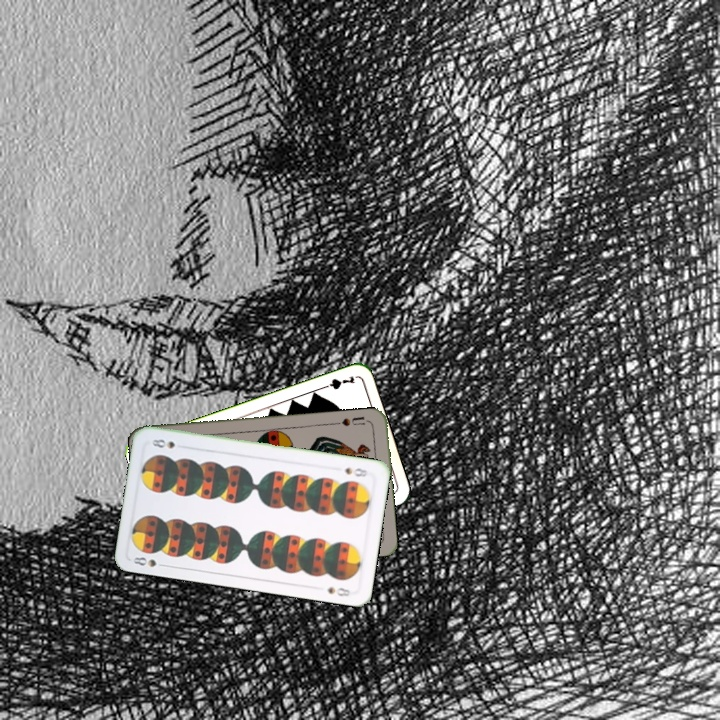G7: (317, 372, 357, 392)
S8: (129, 553, 169, 570), (341, 464, 372, 480)
SU: (331, 413, 372, 429)
